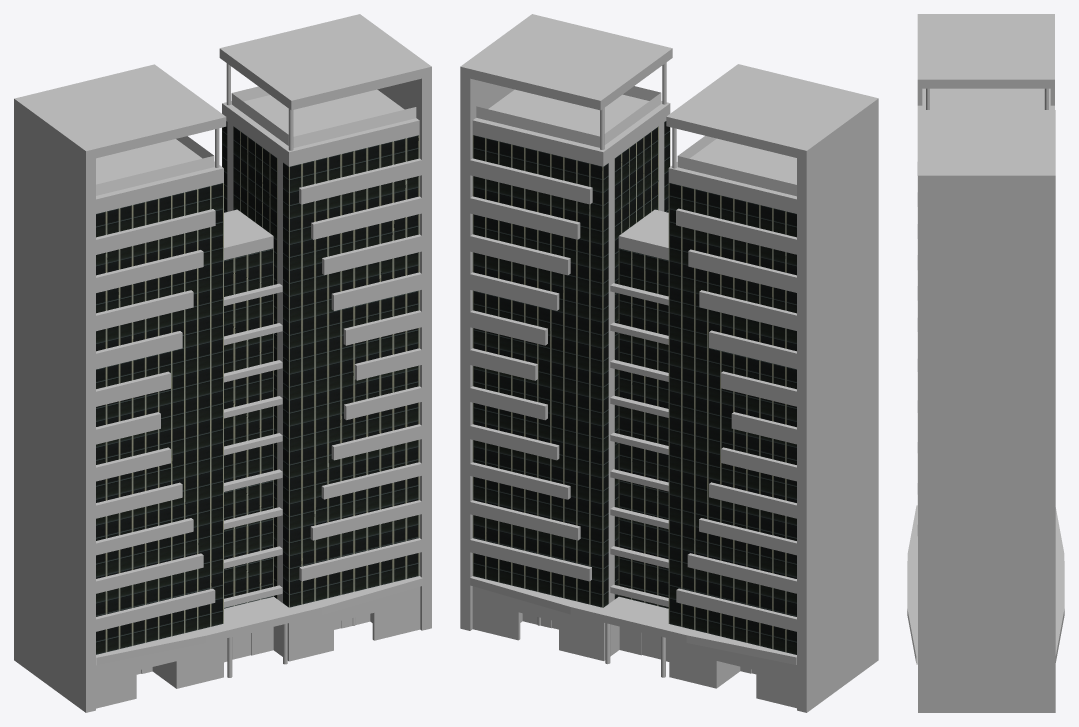
3 views of the same model, side by side, from view 1: azimuth 30°, elevation 25°; view 2: azimuth 150°, elevation 25°; view 3: azimuth 270°, elevation 25° (orthographic). The views are drawn at different scales.
Visible parts, largest first — view 1: BC-041; view 2: BC-041; view 3: BC-041.
Boxes of the visible parts, x1,y1,x2,y2 form: BC-041: (14,14,431,712); BC-041: (460,14,878,712); BC-041: (907,14,1064,712).
Size of what is drawn, in the model's own units: 47.72 by 74 by 19.61.
